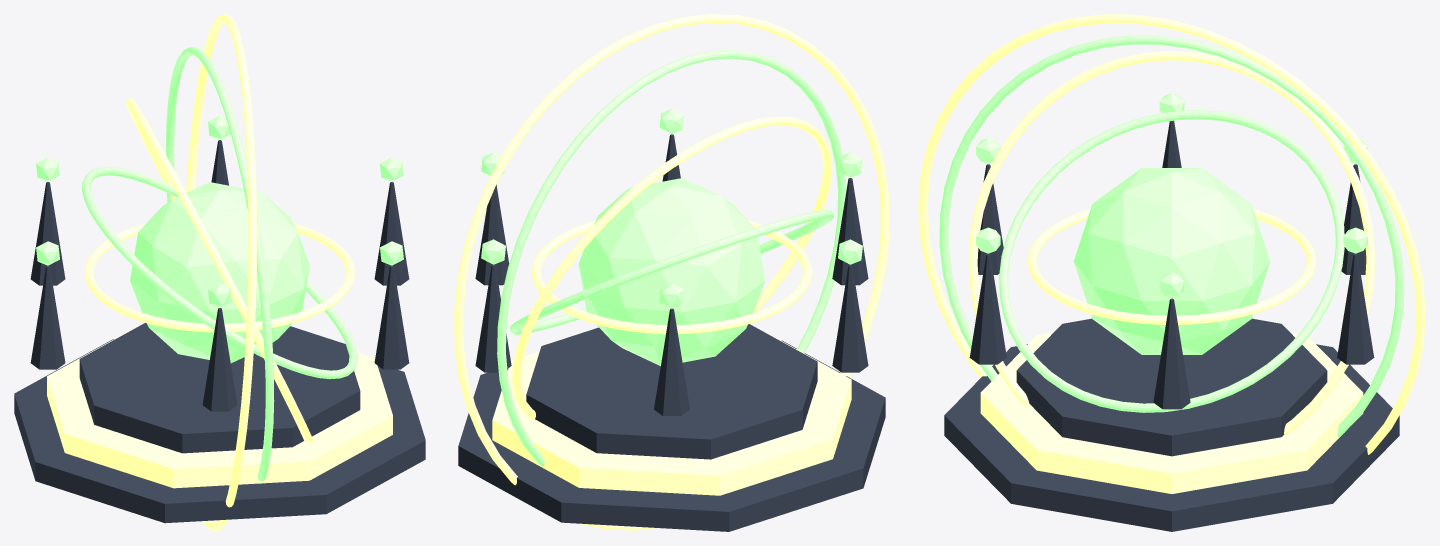
Rendered from gpu-blender-v29.glb.
3 renders of one model, left to right at view 1: azimuth 30°, elevation 25°; view 2: azimuth 150°, elevation 25°; view 3: azimuth 270°, elevation 25°, orthographic. The views are drawn at different scales.
Visible parts, largest first — view 1: Cylinder.002, Cylinder, SovereignCore_promptmaster-studio, Cylinder.001, Torus.004, Torus.003, Torus.001, Torus, Torus.002, Cone.004, Cone.003, Cone.005 (+3 smaller); view 2: Cylinder.002, SovereignCore_promptmaster-studio, Cylinder, Cylinder.001, Torus.004, Torus.003, Torus.002, Torus.001, Torus, Cone.003, Cone.002, Cone.001 (+2 smaller); view 3: SovereignCore_promptmaster-studio, Cylinder.002, Cylinder, Cylinder.001, Torus.004, Torus.001, Torus.003, Torus.002, Torus, Cone, Cone.001, Cone.005 (+3 smaller).
Part boxes in pixels (left/top/right/bottom): Cylinder.002: left=79, top=323, right=360, bottom=453; Cylinder: left=14, top=339, right=425, bottom=523; SovereignCore_promptmaster-studio: left=130, top=182, right=309, bottom=363; Cylinder.001: left=47, top=330, right=392, bottom=488; Torus.004: left=186, top=14, right=257, bottom=531; Torus.003: left=165, top=47, right=274, bottom=483; Torus.001: left=82, top=166, right=357, bottom=379; Torus: left=85, top=223, right=354, bottom=332; Torus.002: left=126, top=98, right=312, bottom=442; Cone.004: left=202, top=308, right=237, bottom=411; Cone.003: left=30, top=266, right=65, bottom=369; Cone.005: left=374, top=266, right=409, bottom=369; Cylinder.002: left=526, top=324, right=817, bottom=459; SovereignCore_promptmaster-studio: left=578, top=178, right=765, bottom=366; Cylinder: left=458, top=340, right=885, bottom=531; Cylinder.001: left=492, top=331, right=851, bottom=495; Torus.004: left=454, top=14, right=889, bottom=530; Torus.003: left=497, top=49, right=846, bottom=466; Torus.002: left=512, top=116, right=831, bottom=419; Torus.001: left=510, top=209, right=833, bottom=334; Torus: left=531, top=220, right=812, bottom=333; Cone.003: left=832, top=265, right=868, bottom=372; Cone.002: left=654, top=308, right=689, bottom=415; Cone.001: left=475, top=265, right=511, bottom=372; SovereignCore_promptmaster-studio: left=1073, top=168, right=1270, bottom=354; Cylinder.002: left=1016, top=318, right=1327, bottom=456; Cylinder: left=944, top=344, right=1399, bottom=531; Cylinder.001: left=980, top=332, right=1363, bottom=493; Torus.004: left=918, top=14, right=1425, bottom=454; Torus.001: left=999, top=110, right=1344, bottom=412; Torus.003: left=939, top=35, right=1404, bottom=437; Torus.002: left=968, top=51, right=1375, bottom=435; Torus: left=1027, top=209, right=1316, bottom=324; Cone: left=1153, top=298, right=1190, bottom=409; Cone.001: left=1337, top=254, right=1374, bottom=364; Cone.005: left=969, top=254, right=1006, bottom=364.
Size of the model in its own units: 4.41 by 5.33 by 4.9.
